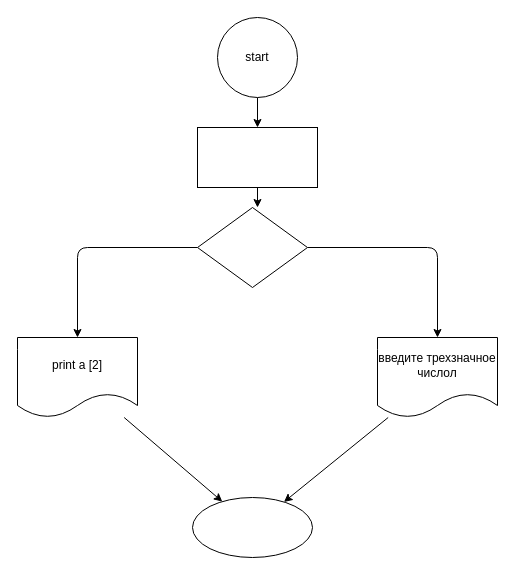
Image size: 515x575. Some labels were removed from this diagram. Here are the shapes that lost their labels. From the top down, the centre of each, then its label:
At (257,157): "int a".
At (252,247): "if a.Length =>3".
